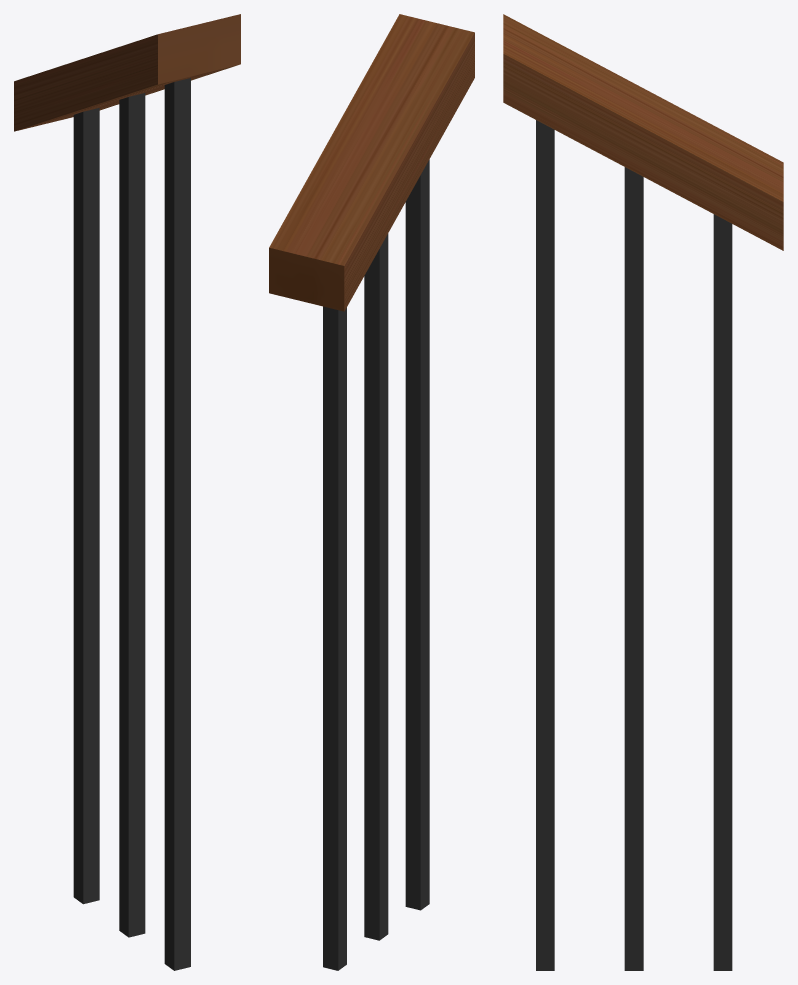
The model's file is railing.glb.
3 views of the same model, side by side, from view 1: azimuth 30°, elevation 25°; view 2: azimuth 150°, elevation 25°; view 3: azimuth 270°, elevation 25° (orthographic). The views are drawn at different scales.
Visible parts, largest first — view 1: Cube.005, Cube.007, Cube.006, Cube.008; view 2: Cube.008, Cube.005, Cube.007, Cube.006; view 3: Cube.008, Cube.005, Cube.007, Cube.006.
Part boxes in pixels (x1,y1,x2,y2): Cube.005: (164,78,190,970); Cube.007: (119,93,145,937); Cube.006: (73,108,99,904); Cube.008: (14,14,240,131); Cube.008: (269,14,474,311); Cube.005: (405,159,429,910); Cube.007: (364,233,388,940); Cube.006: (323,306,346,970); Cube.008: (503,14,783,250); Cube.005: (536,120,554,970); Cube.007: (624,167,643,970); Cube.006: (713,214,732,970).
Bounding box in the file's own units: 0.1 × 1.1 × 0.3.
2 materials, 1 textured.
